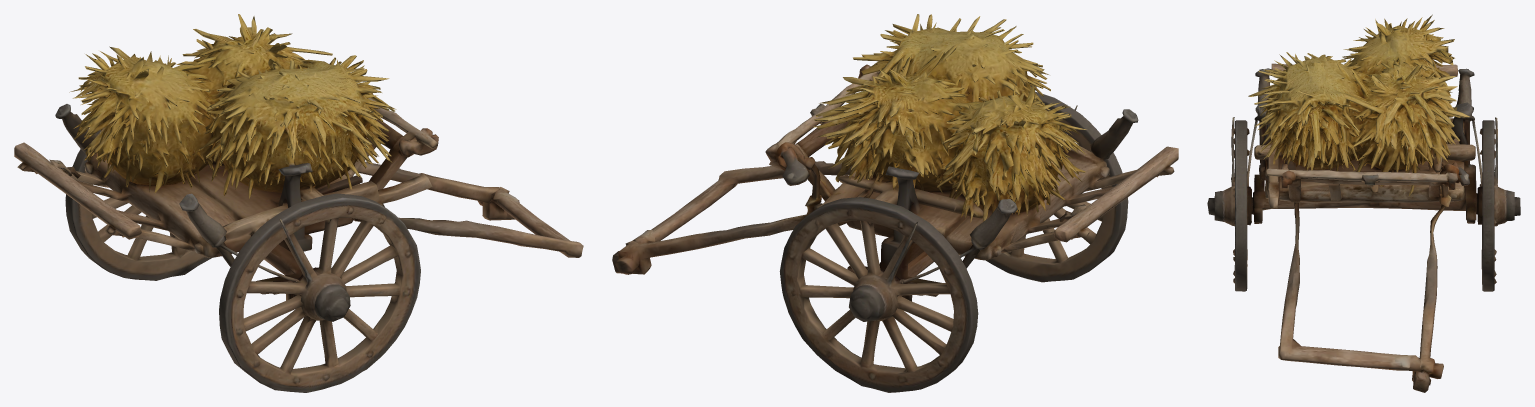
Rendered from bullock_cart.glb.
3 views of the same model, side by side, from view 1: azimuth 30°, elevation 25°; view 2: azimuth 150°, elevation 25°; view 3: azimuth 270°, elevation 25° (orthographic). The views are drawn at different scales.
Visible parts, largest first — view 1: tripo_node_e000b576-0408-4809-9238-44bef25a1e53; view 2: tripo_node_e000b576-0408-4809-9238-44bef25a1e53; view 3: tripo_node_e000b576-0408-4809-9238-44bef25a1e53.
Part boxes in pixels (bbox=[...]): tripo_node_e000b576-0408-4809-9238-44bef25a1e53: bbox=[14, 14, 583, 392]; tripo_node_e000b576-0408-4809-9238-44bef25a1e53: bbox=[612, 14, 1178, 392]; tripo_node_e000b576-0408-4809-9238-44bef25a1e53: bbox=[1207, 14, 1520, 392].
Bounding box in the file's own units: 1.8 × 1 × 1.24.
Materials: 1 (1 with a texture image).
